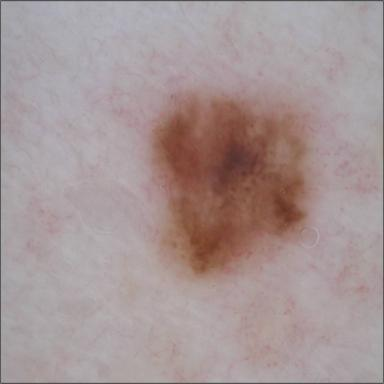nevus: (154, 94, 306, 280)
